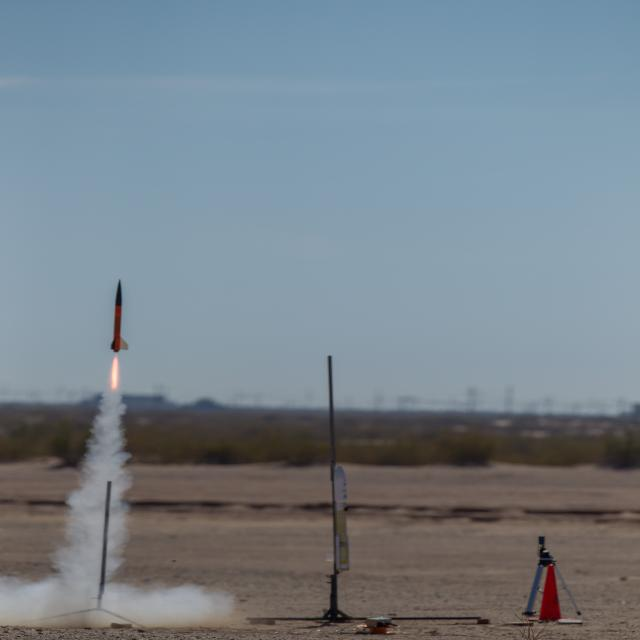Rocket: (333, 464, 351, 575), (110, 278, 130, 353)
